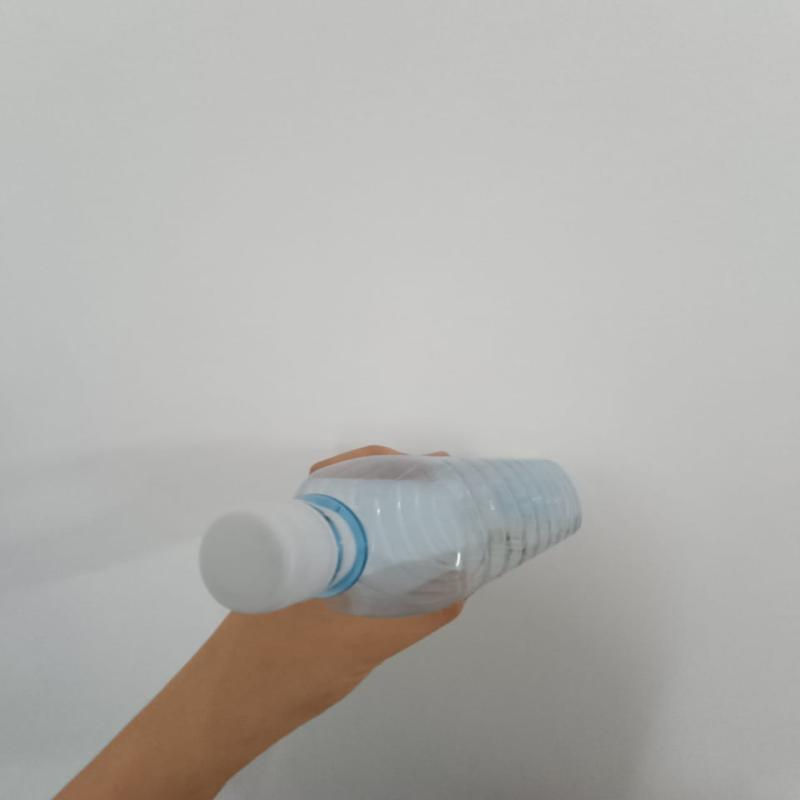botella: (193, 440, 594, 632)
